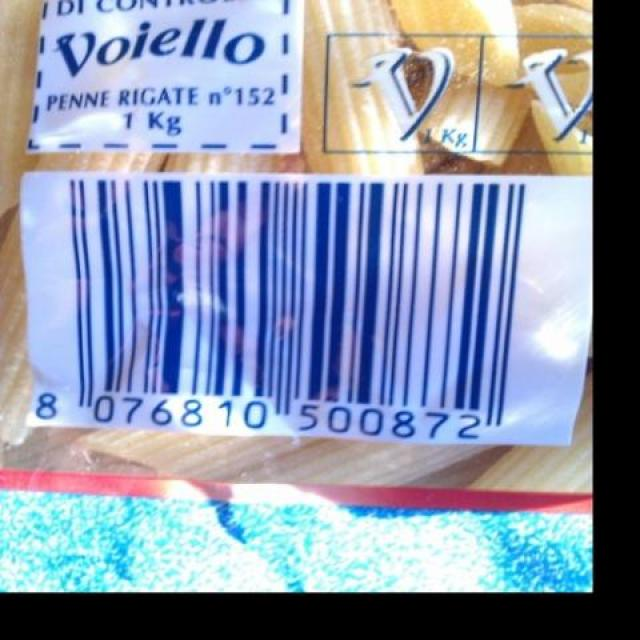Barcode: (16, 171, 556, 452)
